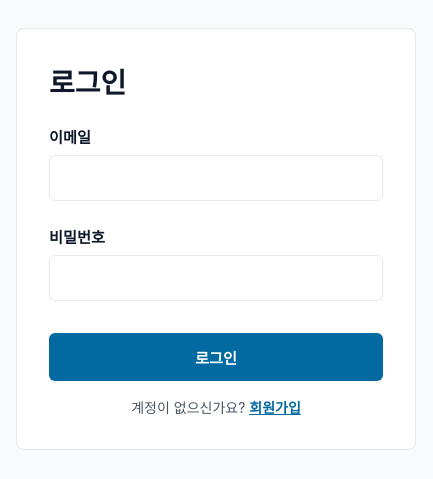
it: LoginPage › 로그인 실패 시 오류 메시지를 보여준다
The image size is (433, 479).
In the field labelled "이메일": x=216, y=178 [49, 155, 383, 201], type "a@b.com"
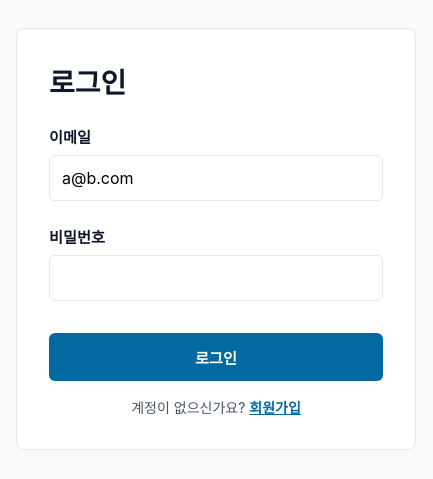
In the password field labelled "비밀번호": x=216, y=278 [49, 255, 383, 301], type "wrongpass"
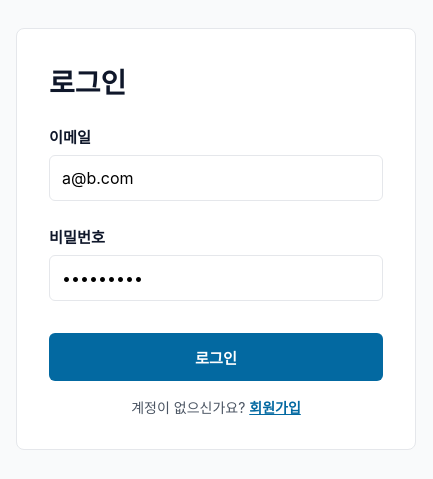
Click the button "로그인": x=216, y=357 [49, 333, 383, 381]
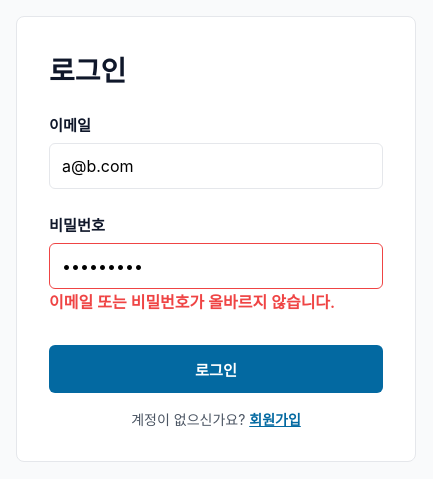
Expected: the text "이메일 또는 비밀번호가 올바르지 않습니다." is shown, [49, 292, 335, 312]
